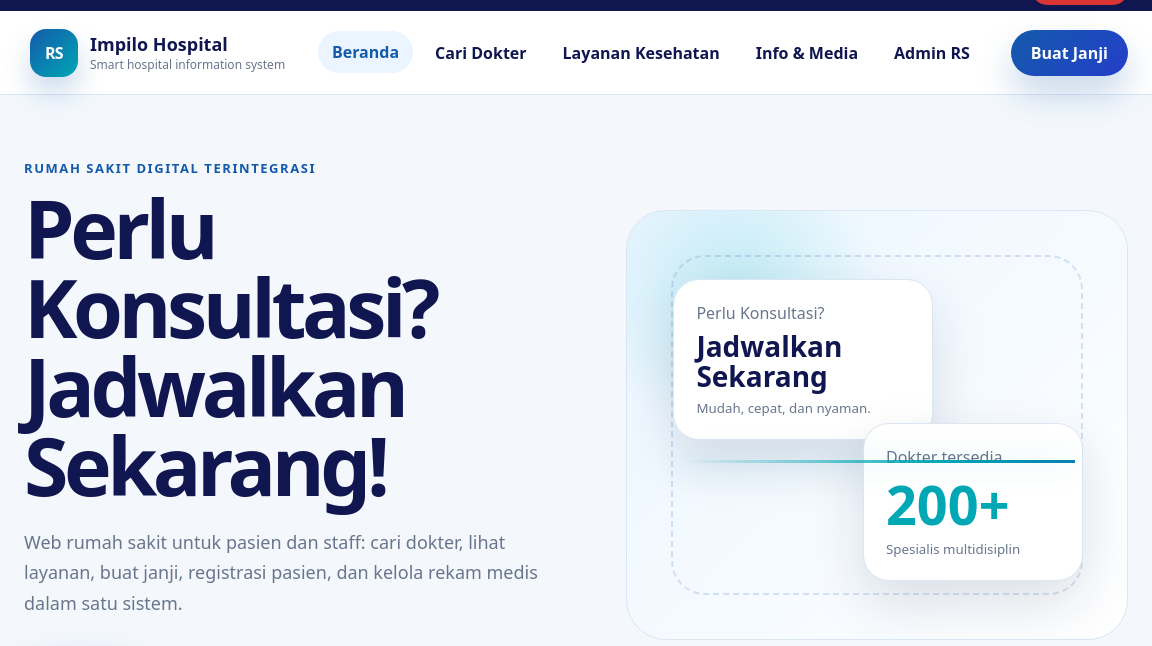
Test: App › renders error state when the API fails
Click the button "Admin RS" at {"x": 932, "y": 52}, box [880, 32, 984, 74]
(page scrolled)
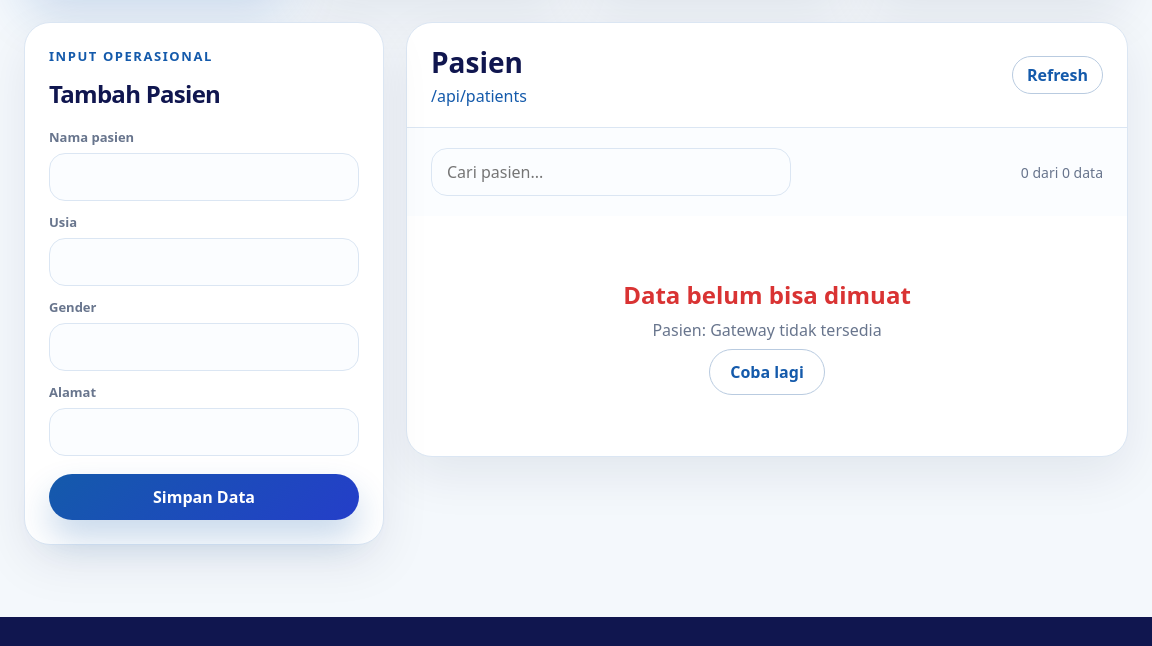
Check: the text "Data belum bisa dimuat" is shown, box [623, 278, 911, 311]
Check: the text "Pasien: Gateway tidak tersedia" is shown, box [652, 319, 882, 341]
